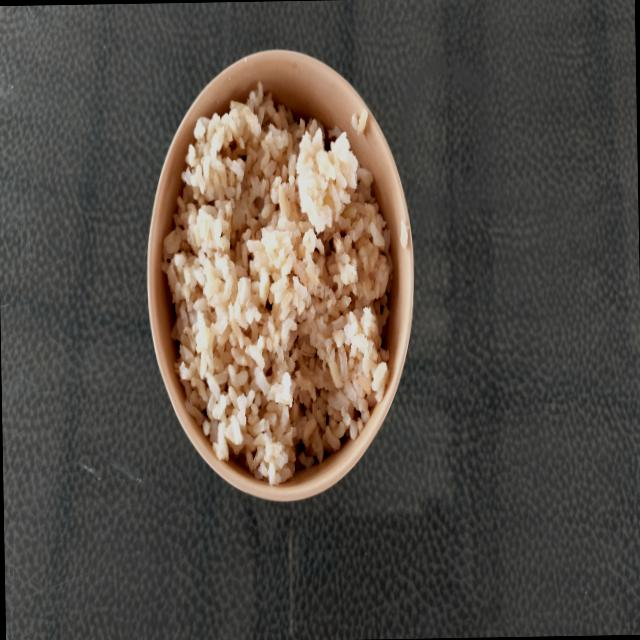brown-rice: (163, 83, 392, 484)
